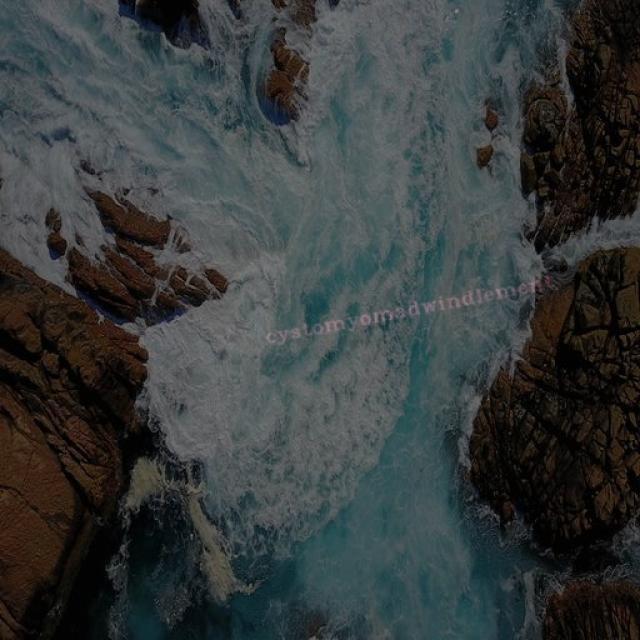watermark: (261, 272, 554, 346)
